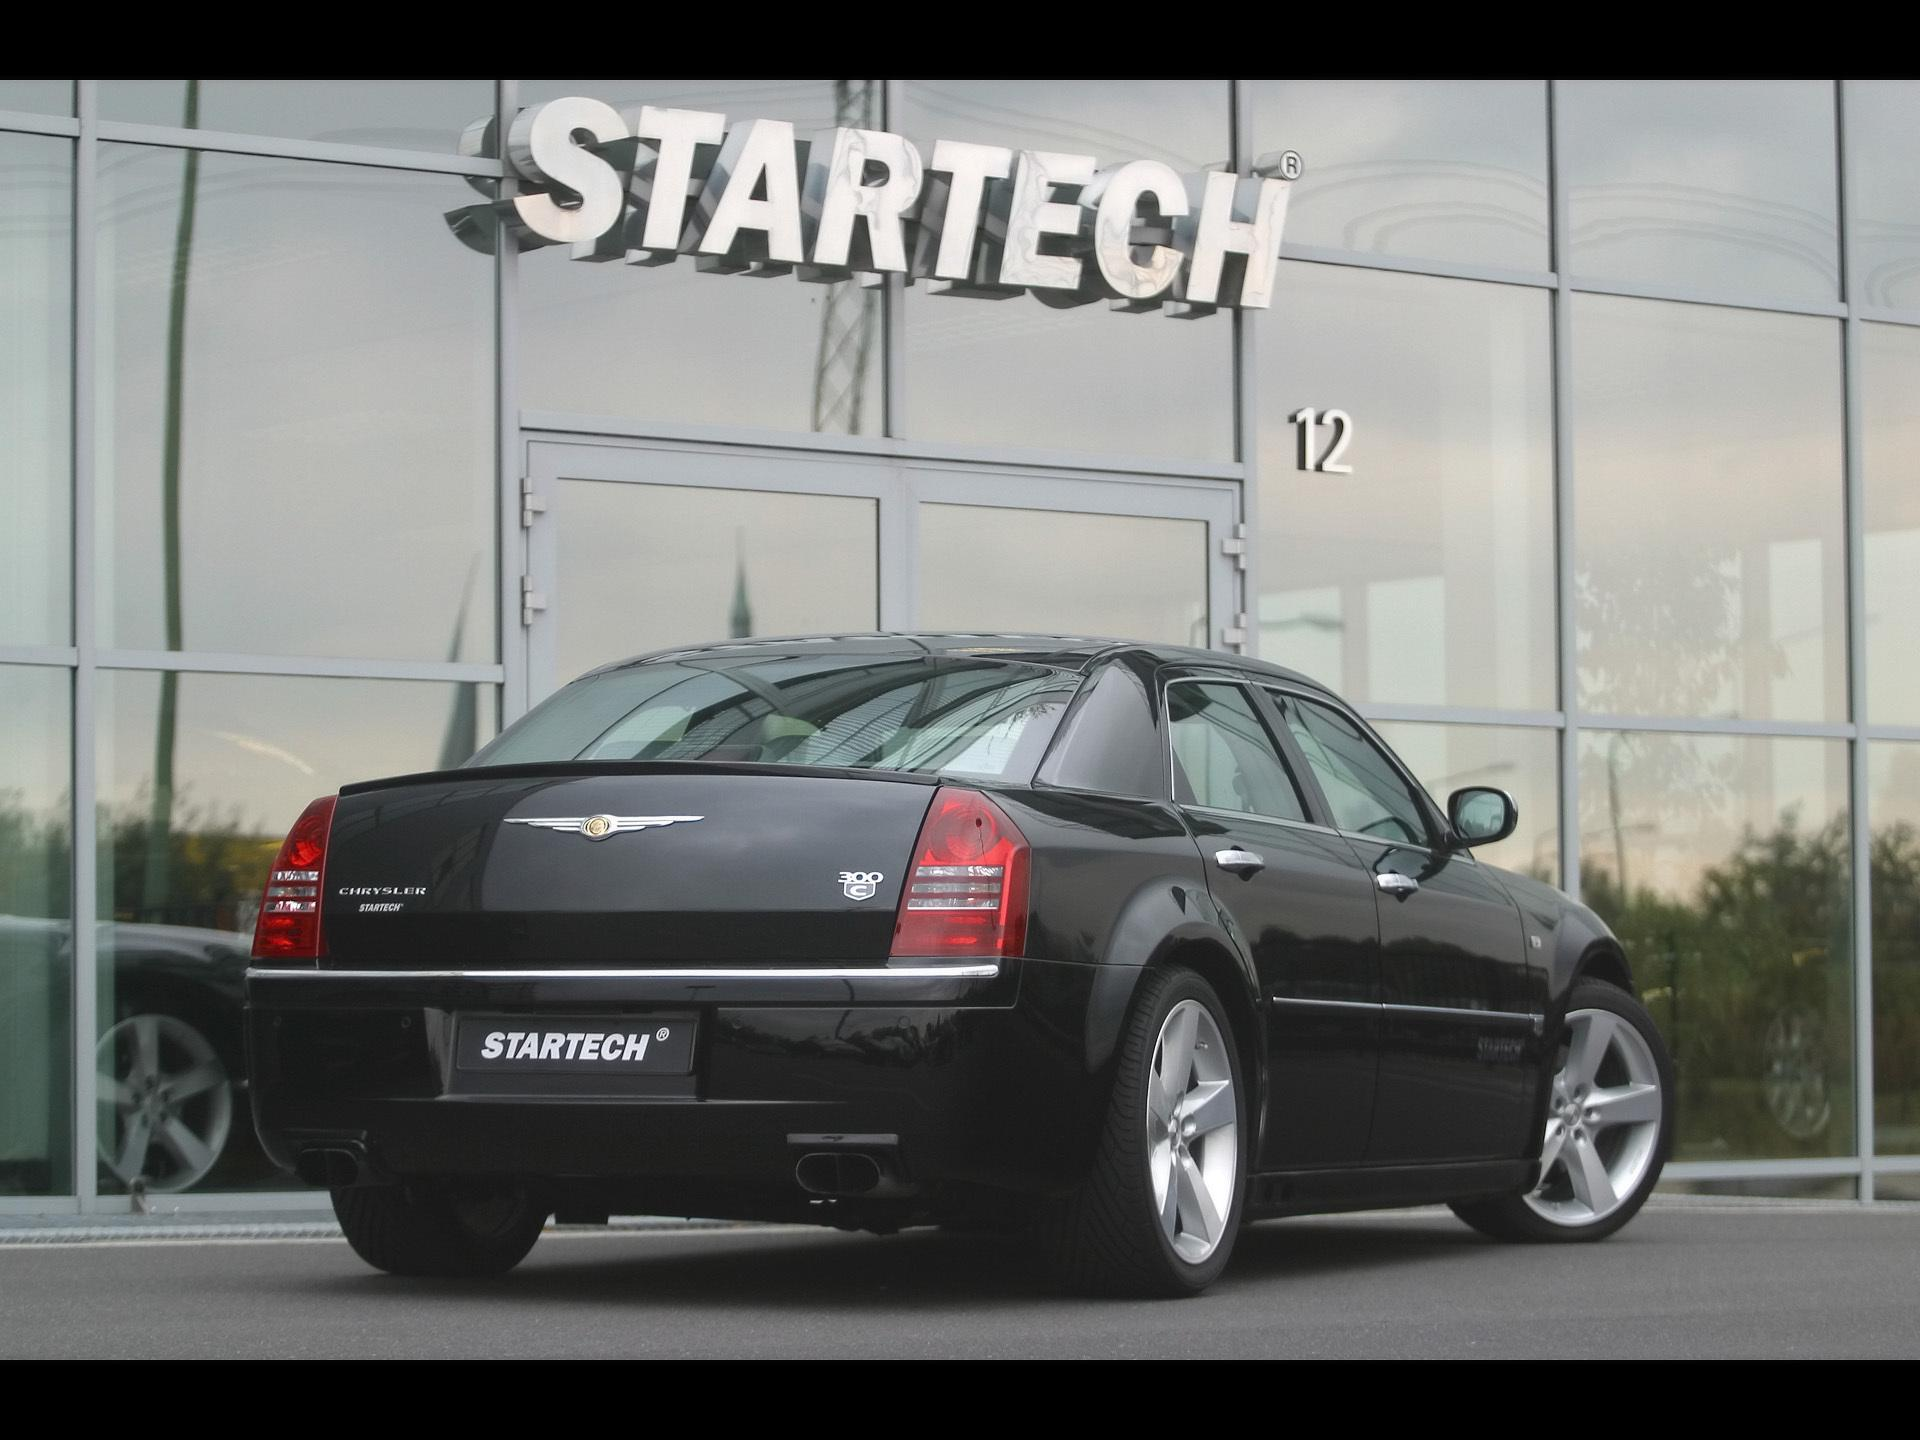Chrysler: (491, 791, 720, 867)
